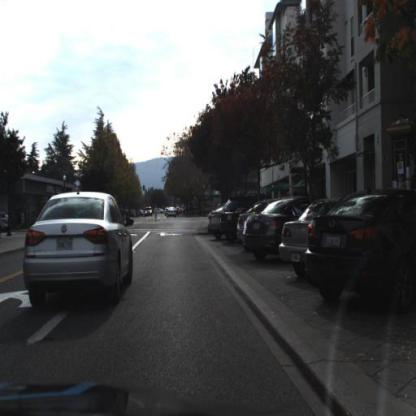car: (22, 187, 145, 314), (303, 186, 416, 307), (276, 200, 331, 281), (240, 192, 291, 265), (162, 203, 180, 226)
